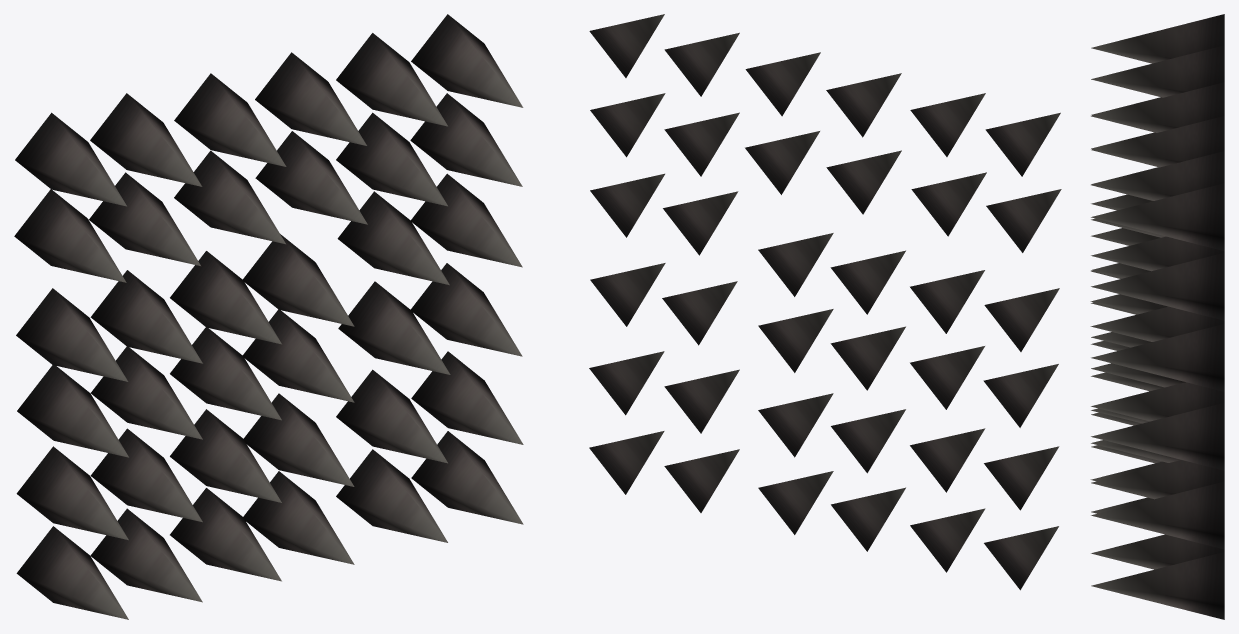
The model's file is spikes_3x3.glb.
3 renders of one model, left to right at view 1: azimuth 30°, elevation 25°; view 2: azimuth 150°, elevation 25°; view 3: azimuth 270°, elevation 25°, orthographic. The views are drawn at different scales.
Visible parts, largest first — view 1: spikes.spikes_3x3-Mesh[0]; view 2: spikes.spikes_3x3-Mesh[0]; view 3: spikes.spikes_3x3-Mesh[0].
Part boxes in pixels (x1,y1,x2,y2): spikes.spikes_3x3-Mesh[0]: (14, 14, 523, 619); spikes.spikes_3x3-Mesh[0]: (589, 14, 1061, 590); spikes.spikes_3x3-Mesh[0]: (1090, 14, 1224, 619).
Size of the model in its own units: 2.87 by 2.87 by 0.8.
Materials: 1 (1 with a texture image).
